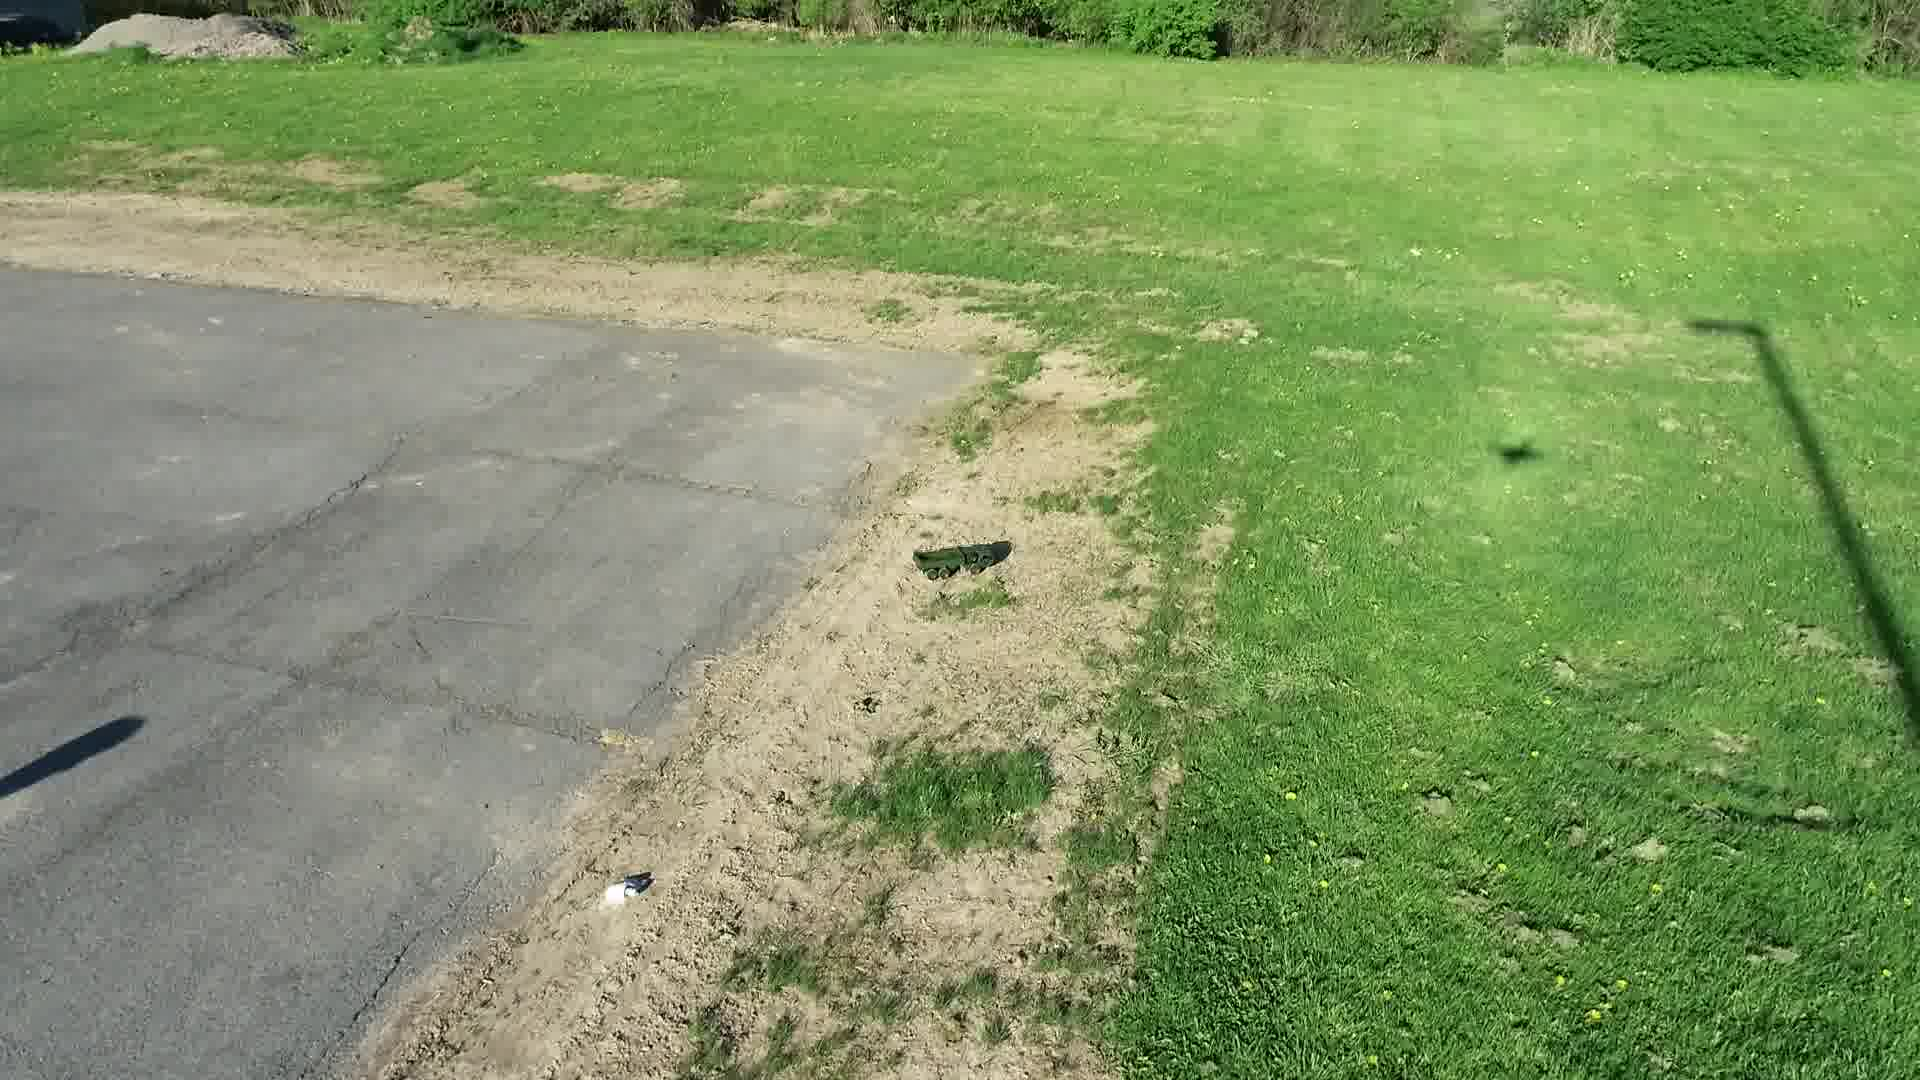transporter9: (905, 530, 1000, 585)
